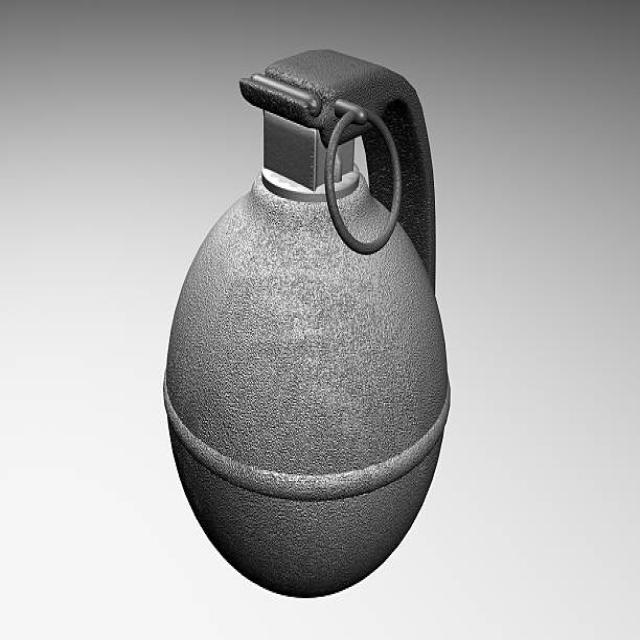grenade: (161, 49, 461, 604)
